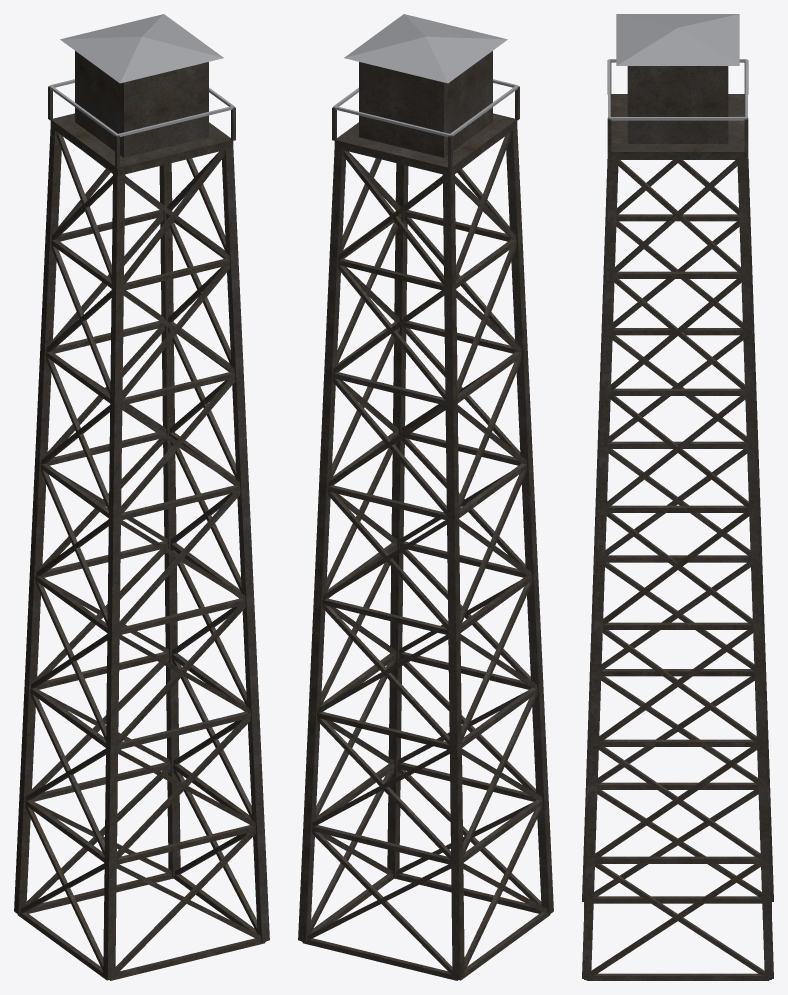
File: fire_lookout_tower.glb
3 views of the same model, side by side, from view 1: azimuth 30°, elevation 25°; view 2: azimuth 150°, elevation 25°; view 3: azimuth 270°, elevation 25° (orthographic). The views are drawn at different scales.
Visible parts, largest first — view 1: fire_lookout_tower; view 2: fire_lookout_tower; view 3: fire_lookout_tower.
Boxes of the visible parts, x1,y1,x2,y2 form: fire_lookout_tower: [14, 14, 269, 980]; fire_lookout_tower: [298, 14, 553, 980]; fire_lookout_tower: [582, 14, 773, 980].
Bounding box in the file's own units: 4.2 × 22.06 × 4.2.
Materials: 2 (1 with a texture image).
